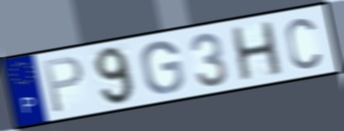3: (189, 31, 229, 88)
9: (91, 45, 136, 107)
C: (283, 16, 322, 72)
G: (139, 39, 187, 96)
H: (229, 19, 286, 83)
P: (42, 54, 86, 116)
